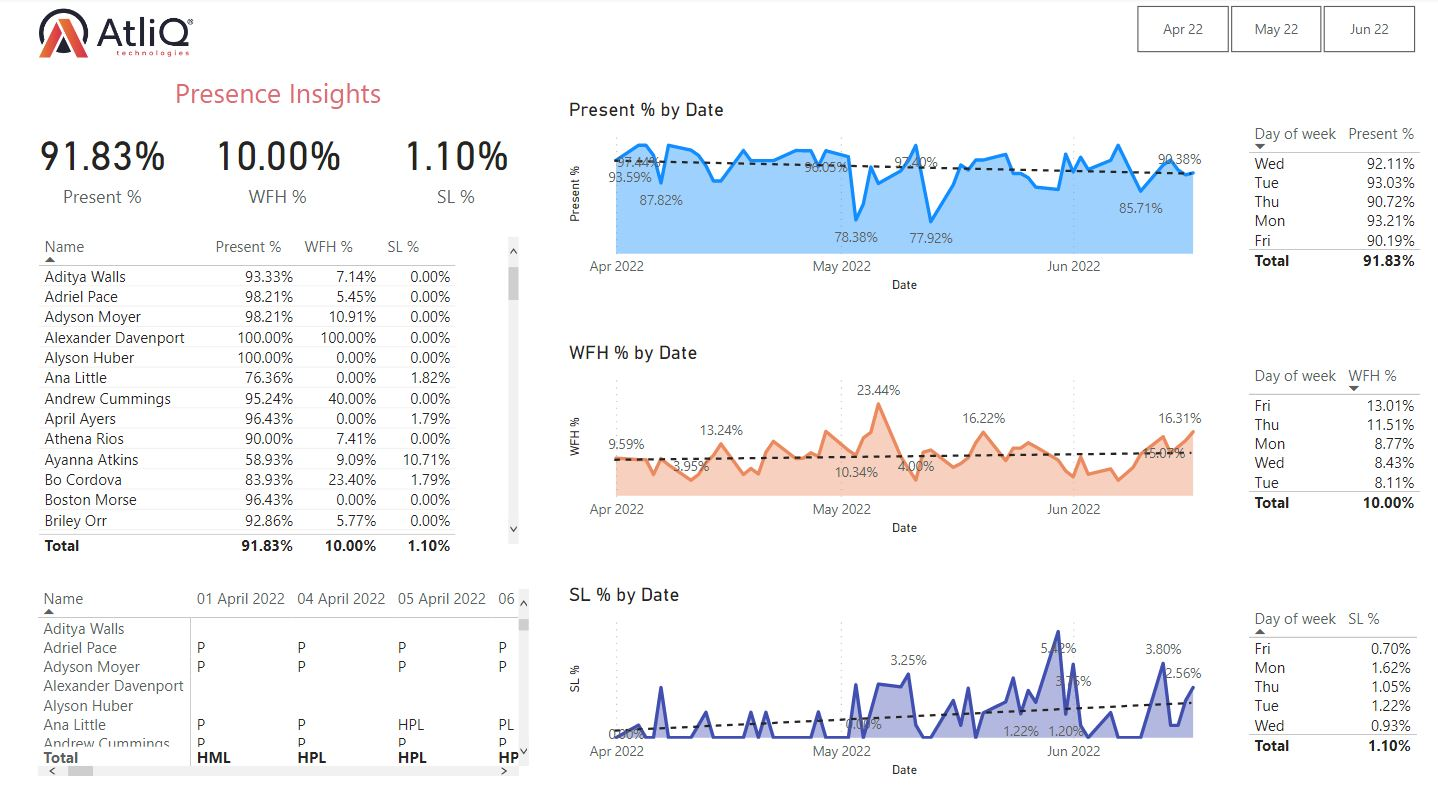

What the dashboard file says about the page in this screenshot:
{"tool":"powerbi","page":{"name":"Page 1","canvas":[1280,720],"ordinal":0},"visuals":[{"type":"card","fields":{"Values":["Measures Table.Present %"]},"box":[31.1,87.5,124.5,118.7],"z":0},{"type":"slicer","fields":{"Values":["Final Data.Month"]},"box":[983.9,0,295.8,54.9],"z":1000},{"type":"card","fields":{"Values":["Measures Table.WFH %"]},"box":[185.8,87.5,125.5,118.7],"z":2000},{"type":"card","fields":{"Values":["Measures Table.SL %"]},"box":[345.3,87.5,121.6,118.7],"z":3000},{"type":"tableEx","fields":{"Values":["Final Data.Name","Measures Table.Present %","Measures Table.WFH %","Measures Table.SL %"]},"box":[31.1,206.2,435.7,290.8],"z":4000},{"type":"textbox","box":[31,62,435.7,44.3],"z":6000},{"type":"pivotTable","fields":{"Rows":["Final Data.Name"],"Columns":["Final Data.Date"],"Values":["Min(Final Data.Value)"]},"box":[31.1,518.4,445.5,176],"z":7000},{"type":"areaChart","fields":{"Category":["Final Data.Date"],"Y":["Measures Table.Present %"]},"box":[500.9,88.5,587.5,176],"z":8000},{"type":"areaChart","fields":{"Category":["Final Data.Date"],"Y":["Measures Table.WFH %"]},"box":[500.9,303.5,587.5,176],"z":9000},{"type":"areaChart","fields":{"Category":["Final Data.Date"],"Y":["Measures Table.SL %"]},"box":[500.9,518.4,587.5,176],"z":10000},{"type":"tableEx","fields":{"Values":["Final Data.Day of week","Measures Table.Present %"]},"box":[1103,106,166.3,158.5],"z":10001},{"type":"tableEx","fields":{"Values":["Final Data.Day of week","Measures Table.WFH %"]},"box":[1103,321,166.3,158.5],"z":10002},{"type":"tableEx","fields":{"Values":["Final Data.Day of week","Measures Table.SL %"]},"box":[1103,535.9,166.3,158.5],"z":10003},{"type":"image","box":[0,0,209.9,62],"z":10004}]}

Visuals, with their boxes in screenshot pixels (x1, y1, x2, y2), scaled from the page's 1280x720 canvas onto the 1438x806 screenshot:
card - Measures Table.Present %: [35, 98, 175, 231]
slicer - Final Data.Month: [1105, 0, 1437, 61]
card - Measures Table.WFH %: [209, 98, 350, 231]
card - Measures Table.SL %: [388, 98, 525, 231]
tableEx - Final Data.Name x Measures Table.Present %: [35, 231, 524, 556]
textbox: [35, 69, 524, 119]
pivotTable - Final Data.Name x Final Data.Date: [35, 580, 535, 777]
areaChart - Final Data.Date x Measures Table.Present %: [563, 99, 1223, 296]
areaChart - Final Data.Date x Measures Table.WFH %: [563, 340, 1223, 537]
areaChart - Final Data.Date x Measures Table.SL %: [563, 580, 1223, 777]
tableEx - Final Data.Day of week x Measures Table.Present %: [1239, 119, 1426, 296]
tableEx - Final Data.Day of week x Measures Table.WFH %: [1239, 359, 1426, 537]
tableEx - Final Data.Day of week x Measures Table.SL %: [1239, 600, 1426, 777]
image: [0, 0, 236, 69]
